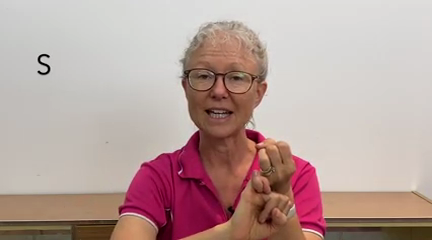S: (226, 133, 314, 239)
